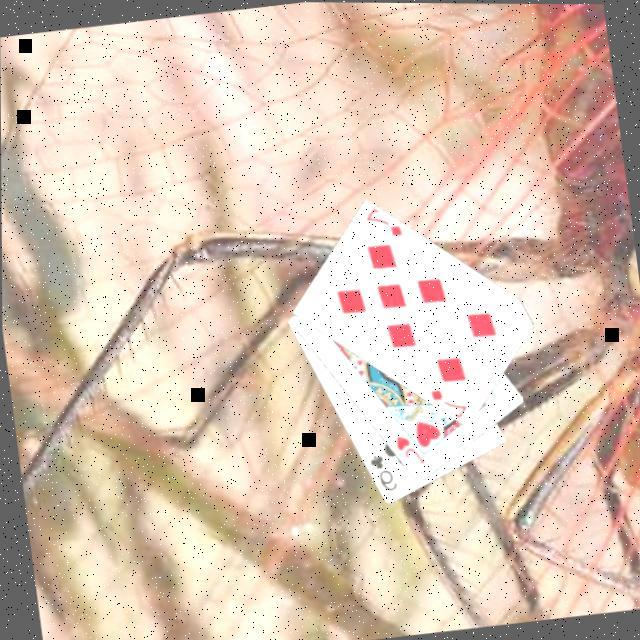6C: (365, 450, 400, 498)
7D: (426, 384, 472, 424), (362, 203, 406, 244)
JH: (392, 431, 428, 472)
